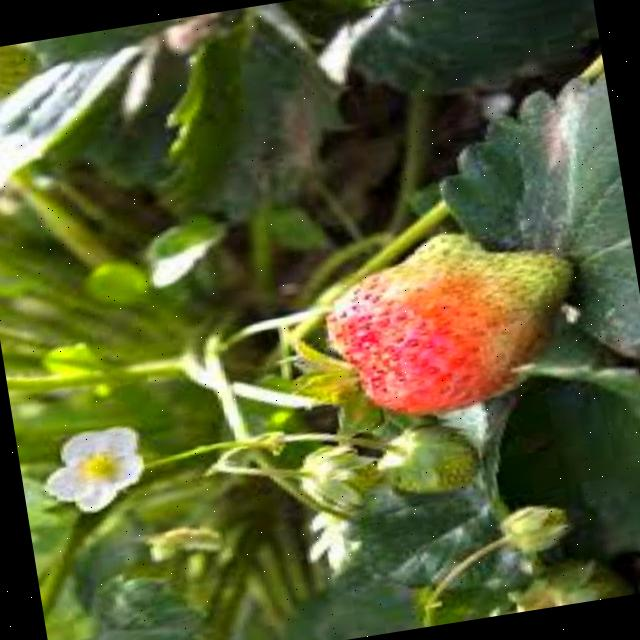strawberry: (316, 241, 588, 428), (380, 414, 486, 510)
